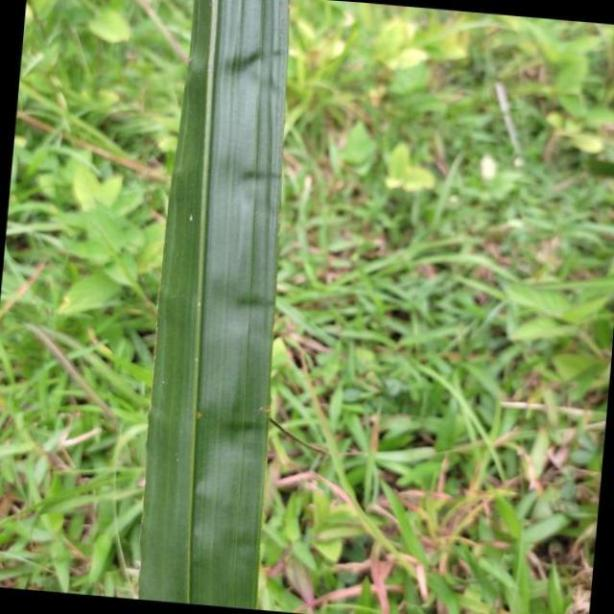Boron: (139, 0, 288, 614)
